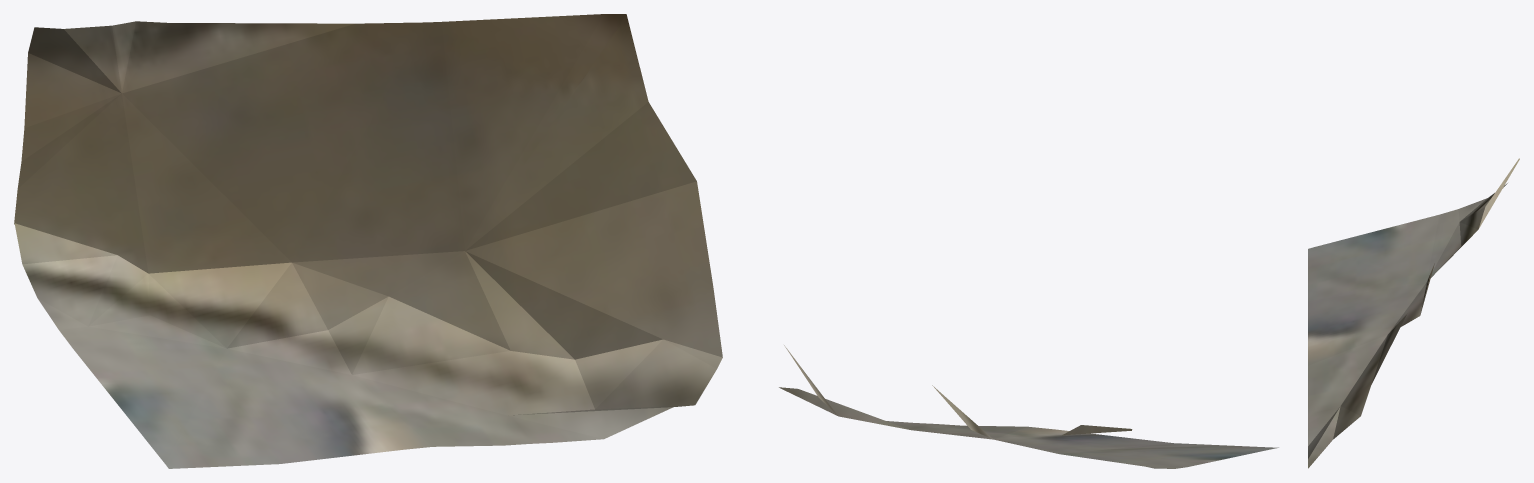
3 views of the same model, side by side, from view 1: azimuth 30°, elevation 25°; view 2: azimuth 150°, elevation 25°; view 3: azimuth 270°, elevation 25° (orthographic). The views are drawn at different scales.
Size of the model in its own units: 0.3997 by 0.2894 by 0.1936.
1 material, 1 textured.
